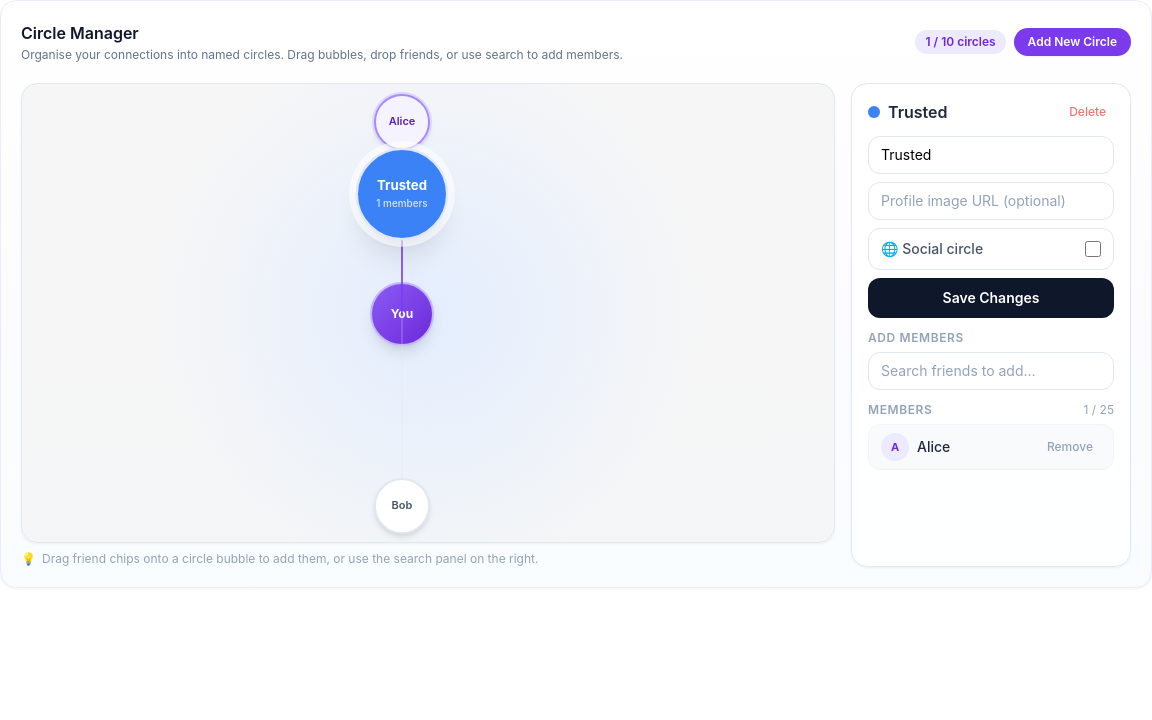
Test case: CircleManager › opens member preview when clicking a friend node in the graph
The image size is (1152, 720).
Click the button with test id "friend-node-f-1" at (402, 122), box x1=374 y1=94 x2=430 y2=150
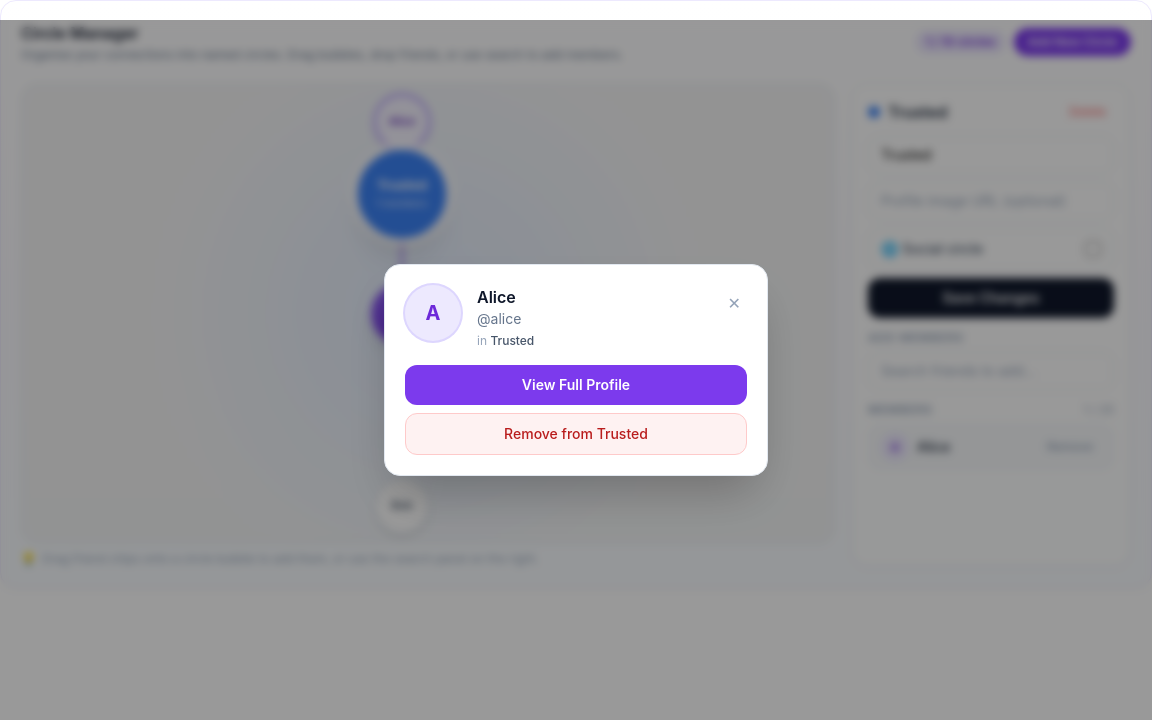
Expected: the text "Alice" is shown, x1=389 y1=115 x2=415 y2=129
Expected: the text "@alice" is shown, x1=477 y1=310 x2=521 y2=327
Expected: the link "View Full Profile" is shown, x1=405 y1=365 x2=747 y2=405
